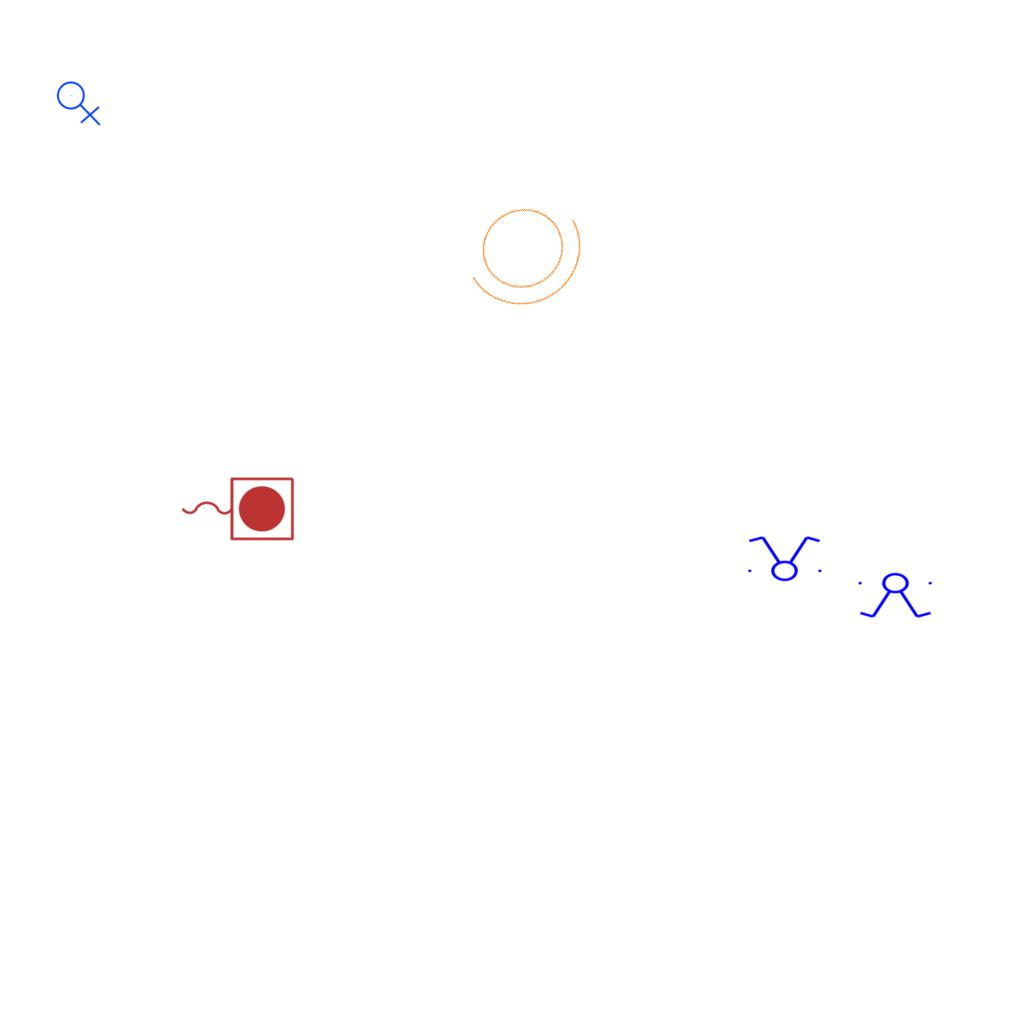Elektroanschluss_allgemein_230V_Geraeteanschlussdose_230V: (56, 77, 103, 126)
Scheinwerfer_fuer_Alarmbeleuchtung: (442, 169, 614, 333)
Serienschalter: (742, 534, 826, 582), (854, 572, 938, 620)
Zugtaster: (176, 472, 298, 544)
